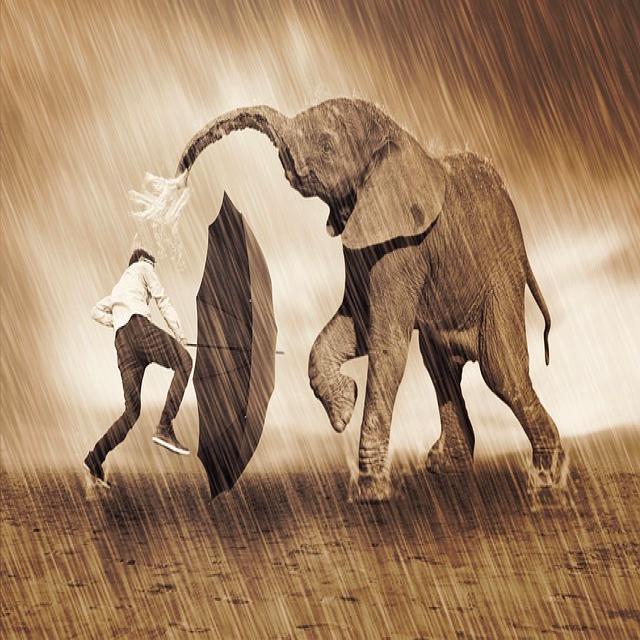FIL: (185, 96, 566, 505)
